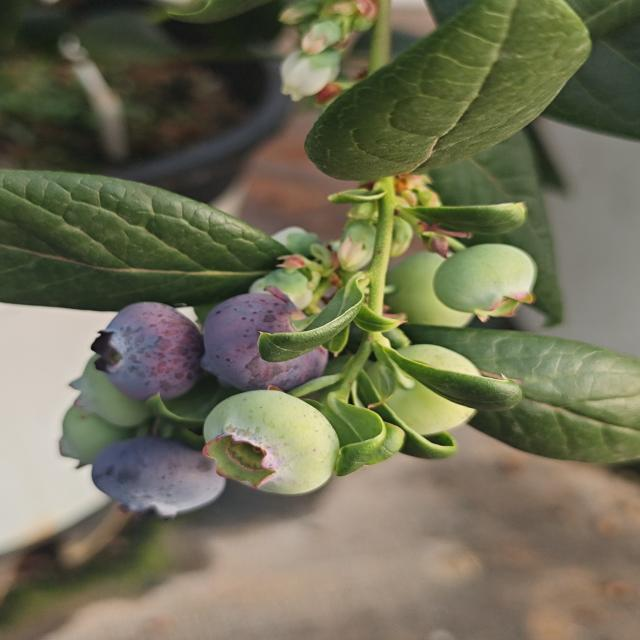ripe: (200, 289, 330, 392), (88, 299, 205, 403), (88, 434, 228, 520)
